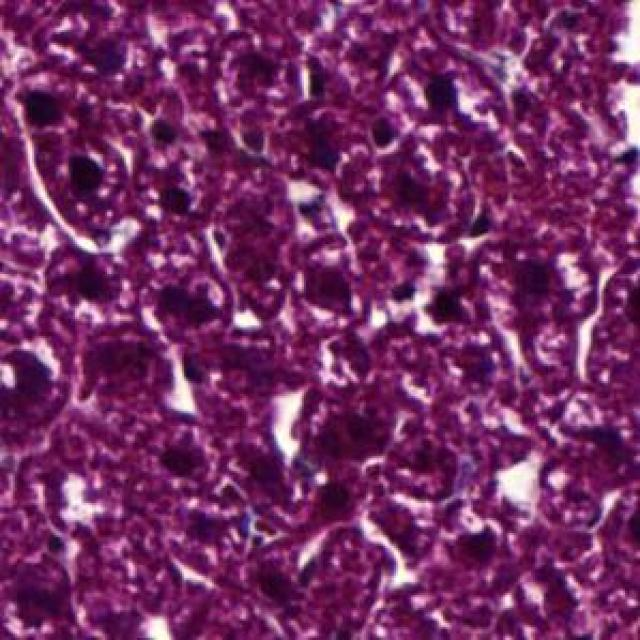inflammation: (133, 261, 233, 345), (356, 490, 446, 570), (280, 178, 362, 252), (407, 274, 477, 347), (317, 321, 377, 394), (407, 66, 471, 120)
